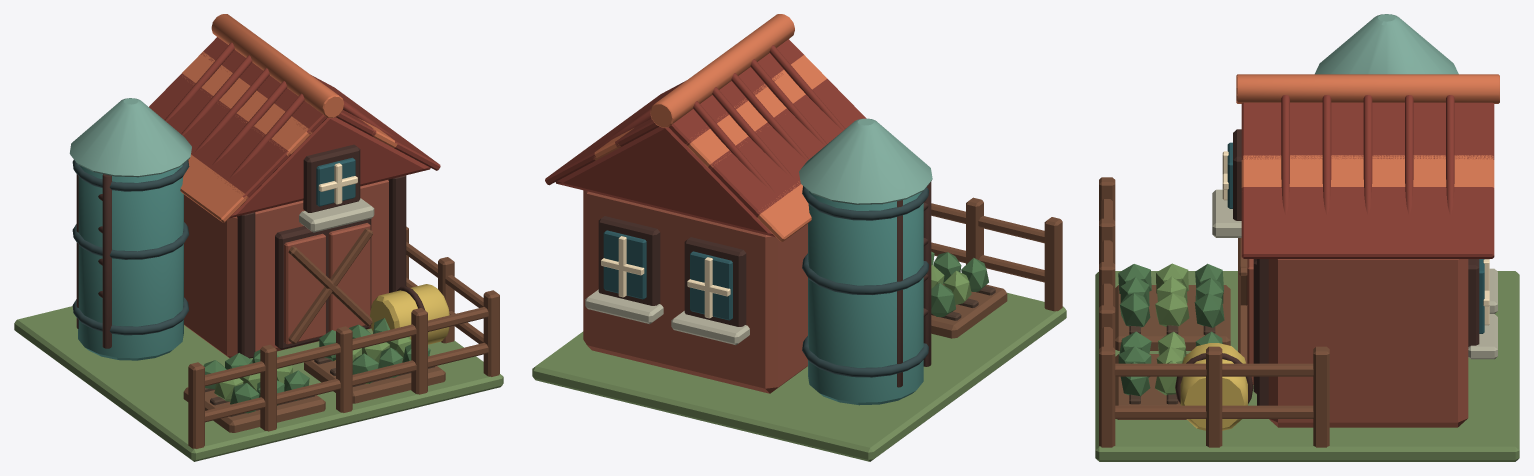
The model's file is farm.glb.
3 views of the same model, side by side, from view 1: azimuth 30°, elevation 25°; view 2: azimuth 150°, elevation 25°; view 3: azimuth 270°, elevation 25° (orthographic). The views are drawn at different scales.
Parts seen in each view (by area): view 1: farm · barn_red, farm · tile_dark, farm · grass_dark, farm · wood_light, farm · copper, farm · wood, farm · tile_light, farm · copper_light, farm · soil, farm · metal, farm · leaf, farm · crop (+4 smaller); view 2: farm · grass_dark, farm · tile_dark, farm · barn_red, farm · copper, farm · tile_light, farm · copper_light, farm · wood, farm · wood_light, farm · metal, farm · window, farm · stone_light, farm · leaf (+3 smaller); view 3: farm · tile_dark, farm · barn_red, farm · grass_dark, farm · tile_light, farm · wood_light, farm · copper_light, farm · leaf, farm · wood, farm · soil, farm · leaf_light, farm · crop, farm · stone_light (+3 smaller).
Part boxes in pixels (x1,y1,x2,y2): farm · barn_red: (184,180,388,358); farm · tile_dark: (149,37,440,218); farm · grass_dark: (14,306,503,461); farm · wood_light: (188,226,499,448); farm · copper: (78,164,183,360); farm · wood: (76,144,425,358); farm · tile_light: (180,14,397,222); farm · copper_light: (69,98,191,177); farm · soil: (183,360,445,432); farm · metal: (72,160,189,335); farm · leaf: (203,318,430,413); farm · crop: (370,284,449,344); farm · grass_dark: (532,292,1066,461); farm · tile_dark: (545,39,866,237); farm · barn_red: (583,190,807,393); farm · copper: (808,191,923,405); farm · tile_light: (593,14,826,241); farm · copper_light: (799,118,932,204); farm · wood: (598,181,931,387); farm · wood_light: (931,197,1062,311); farm · metal: (802,186,928,377); farm · window: (603,230,732,320); farm · stone_light: (585,289,749,344); farm · leaf: (931,251,988,317); farm · tile_dark: (1241,95,1494,258); farm · barn_red: (1247,259,1468,427); farm · grass_dark: (1095,271,1519,461); farm · tile_light: (1236,74,1499,187); farm · wood_light: (1099,177,1329,447); farm · copper_light: (1315,14,1458,74); farm · leaf: (1118,263,1224,396); farm · wood: (1175,129,1479,405); farm · soil: (1115,285,1230,419); farm · leaf_light: (1155,263,1189,395); farm · crop: (1180,343,1247,430); farm · stone_light: (1212,189,1497,359).
Size of the model in its own units: 0.91 by 0.7662 by 0.91.
